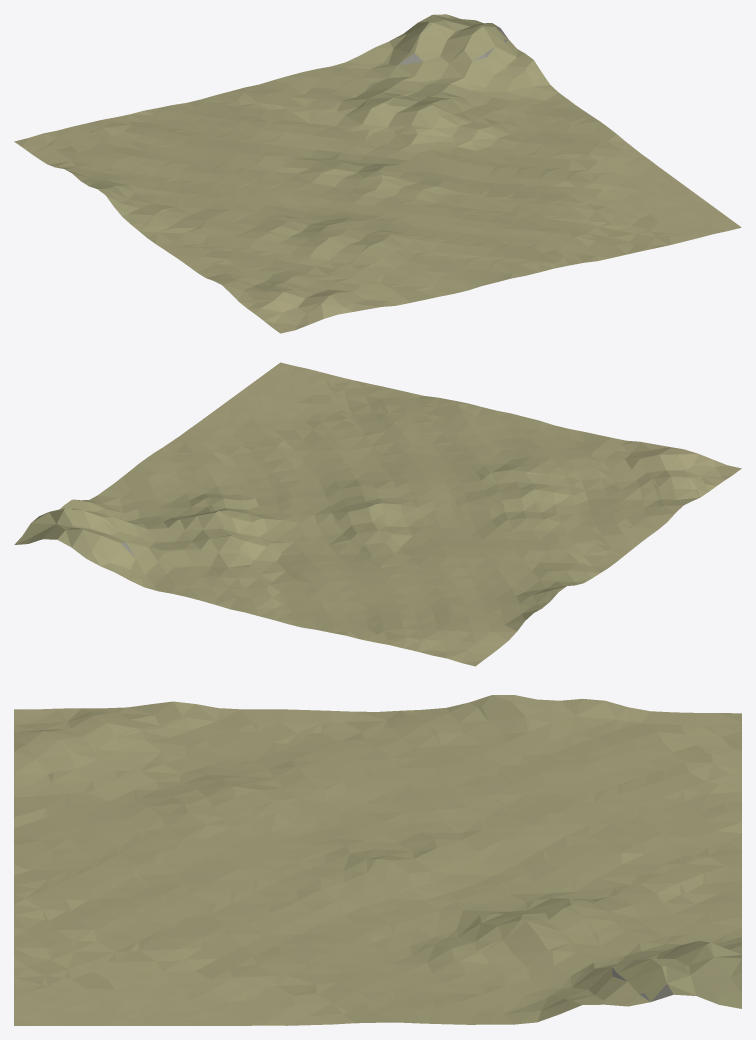
The model's file is Ground_4_-7.glb.
3 views of the same model, one above another, from view 1: azimuth 30°, elevation 25°; view 2: azimuth 150°, elevation 25°; view 3: azimuth 270°, elevation 25° (orthographic). The views are drawn at different scales.
Visible parts, largest first — view 1: Ground_4_-7; view 2: Ground_4_-7; view 3: Ground_4_-7.
Part boxes in pixels (x1,y1,x2,y2): Ground_4_-7: (14, 14, 741, 333); Ground_4_-7: (14, 362, 741, 666); Ground_4_-7: (14, 695, 741, 1025).
Size of the model in its own units: 768 by 52.72 by 768.
